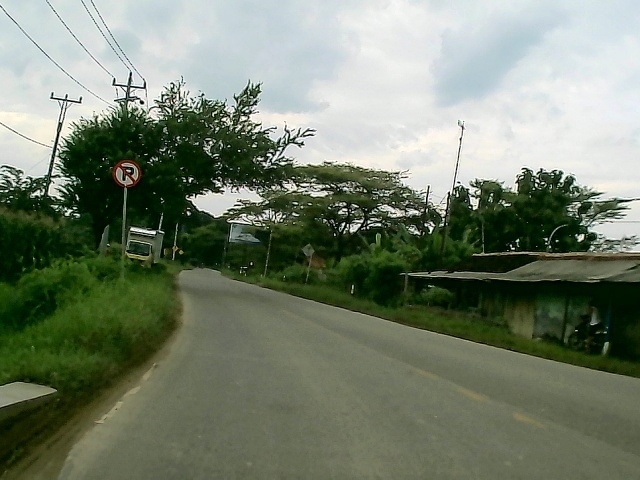Dilarang parkir: (109, 159, 143, 187)
